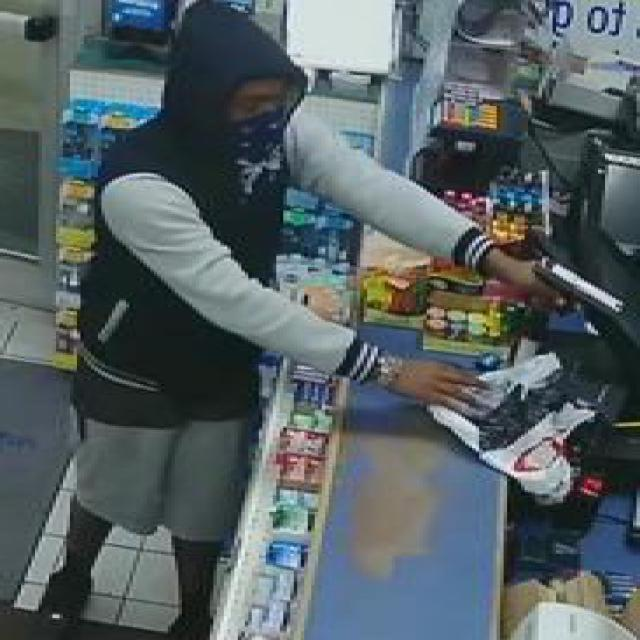weapon: (532, 253, 626, 317)
